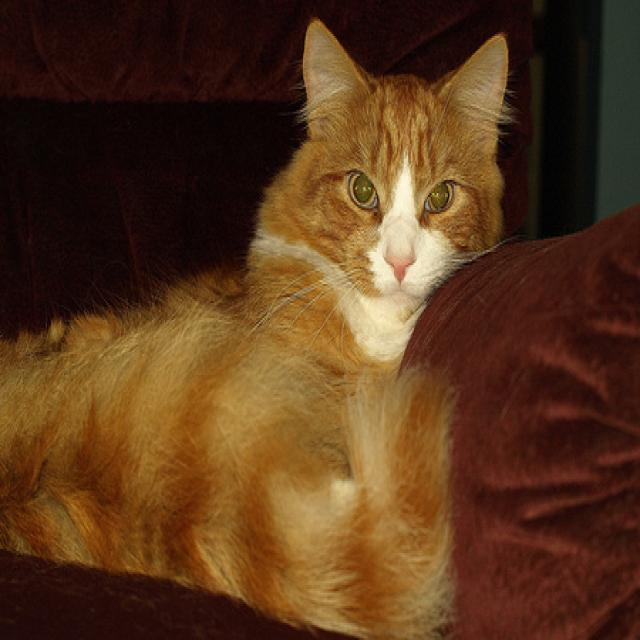Maine Coon: (0, 11, 515, 640)
